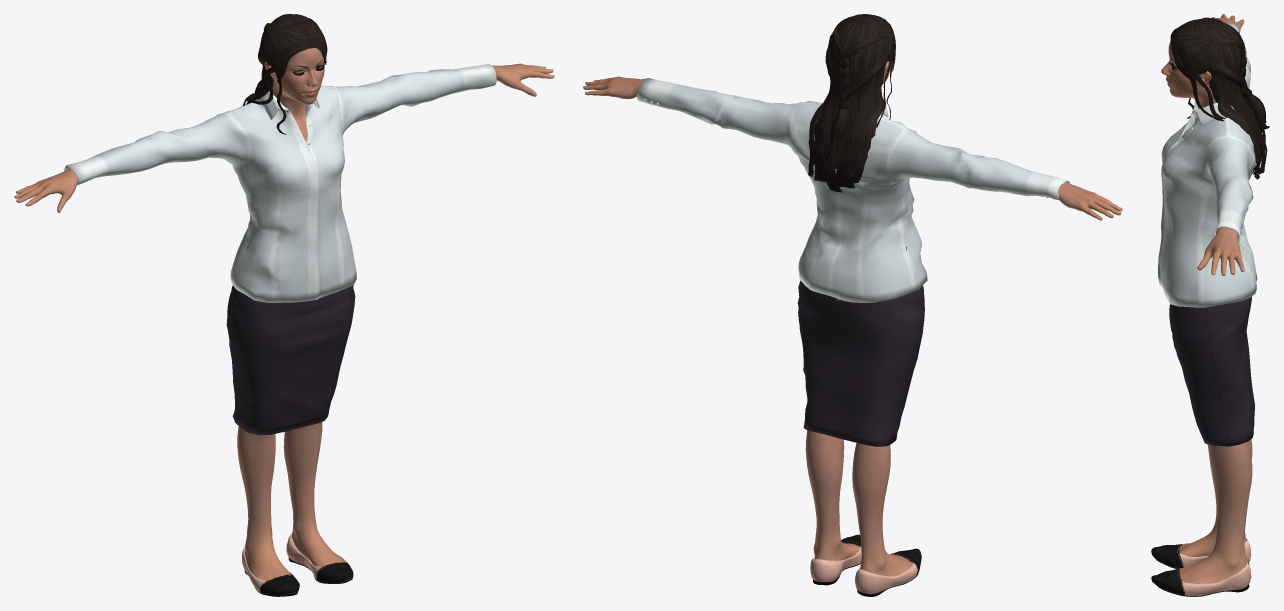
The model's file is Female_1.obj.
3 renders of one model, left to right at view 1: azimuth 30°, elevation 25°; view 2: azimuth 150°, elevation 25°; view 3: azimuth 270°, elevation 25°, orthographic.
Visible parts, largest first — view 1: Tops, Bottoms, Body, Hair, Shoes; view 2: Tops, Bottoms, Body, Hair, Shoes; view 3: Tops, Bottoms, Body, Hair, Shoes.
Part boxes in pixels (x1,y1,x2,y2): Tops: [64, 64, 496, 302]; Bottoms: [226, 246, 355, 435]; Body: [14, 48, 554, 580]; Hair: [242, 14, 327, 134]; Shoes: [242, 532, 353, 596]; Tops: [636, 78, 1069, 302]; Bottoms: [797, 246, 924, 446]; Body: [583, 61, 1122, 576]; Hair: [808, 14, 895, 192]; Shoes: [810, 534, 921, 596]; Tops: [1158, 22, 1257, 307]; Bottoms: [1169, 296, 1254, 446]; Body: [1161, 14, 1252, 583]; Hair: [1170, 17, 1269, 179]; Shoes: [1151, 538, 1251, 596].
Size of the model in its own units: 179 by 178 by 34.5.
Materials: 1 (1 with a texture image).
